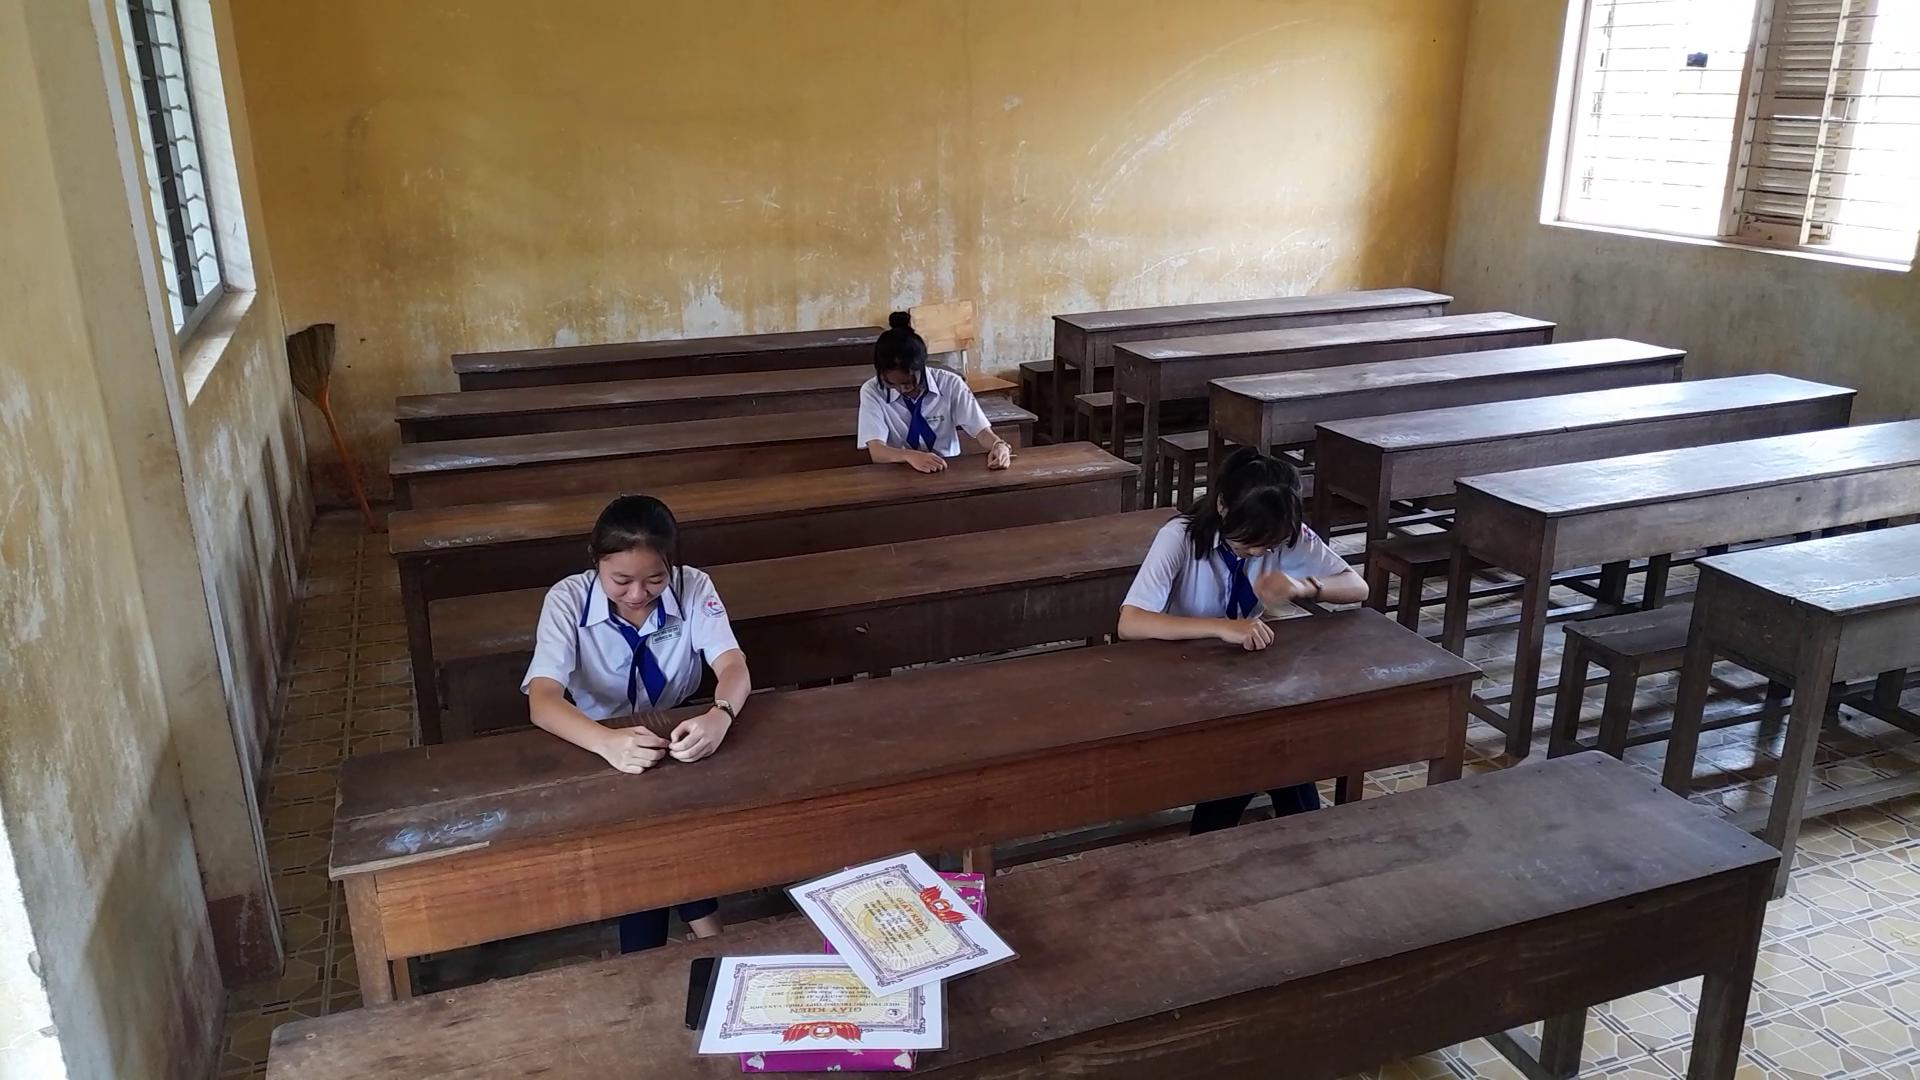Bend Over The Desk: (848, 291, 942, 409)
Normal: (498, 480, 764, 778), (1091, 425, 1381, 675)
